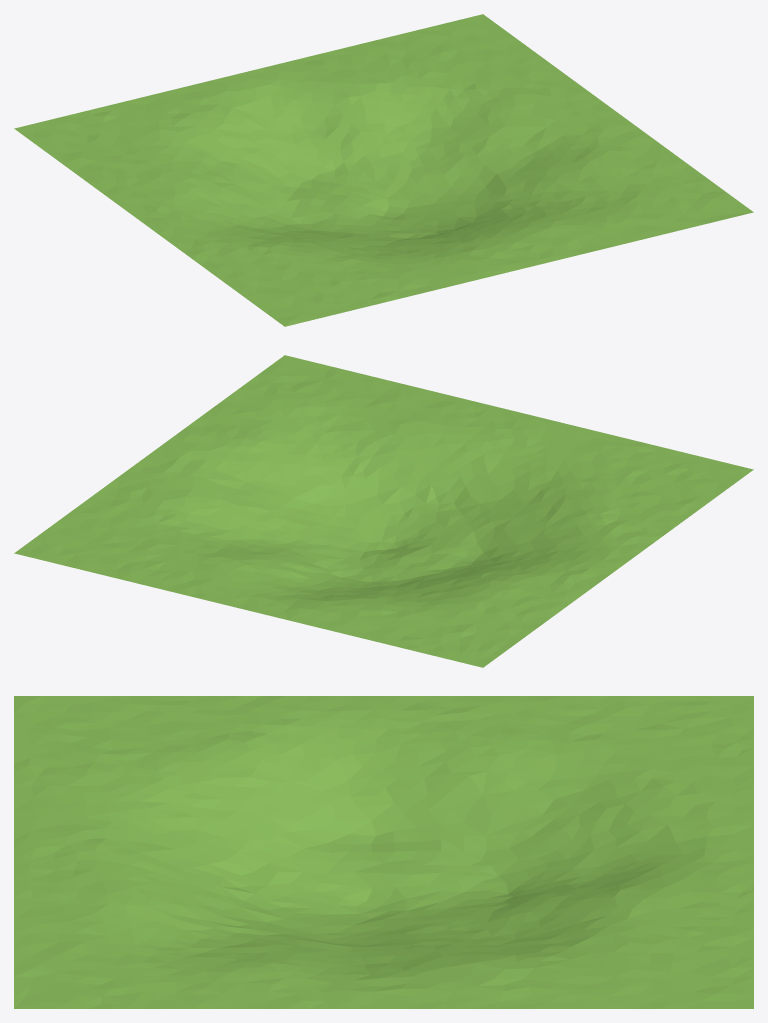
File: MT_Terrain_L_b_12_LOD.fbx
3 views of the same model, one above another, from view 1: azimuth 30°, elevation 25°; view 2: azimuth 150°, elevation 25°; view 3: azimuth 270°, elevation 25° (orthographic). The views are drawn at different scales.
Visible parts, largest first — view 1: MT_Terrain_L_b_12_LOD0; view 2: MT_Terrain_L_b_12_LOD0; view 3: MT_Terrain_L_b_12_LOD0.
Boxes of the visible parts, x1=… form: MT_Terrain_L_b_12_LOD0: x1=14, y1=14, x2=753, y2=326; MT_Terrain_L_b_12_LOD0: x1=14, y1=355, x2=753, y2=667; MT_Terrain_L_b_12_LOD0: x1=14, y1=696, x2=753, y2=1008.
Size of what is drawn, in the model's own units: 10000 by 829 by 10000.
